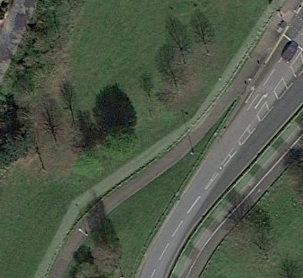tree: (82, 228, 133, 273), (93, 116, 145, 160), (184, 21, 221, 61), (150, 59, 189, 93), (165, 37, 195, 64)
